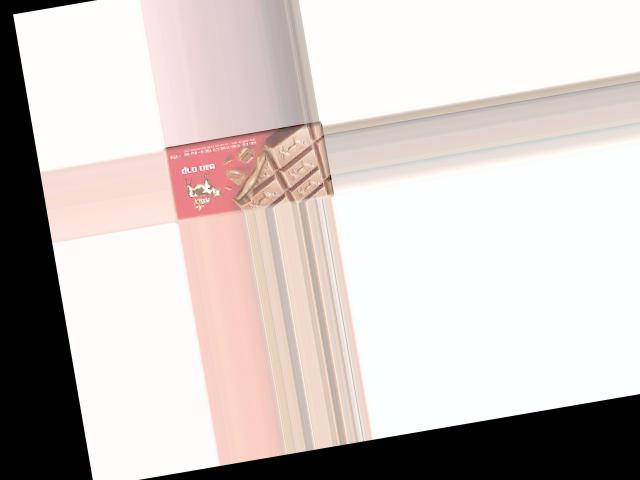chocolate: (162, 122, 332, 223)
